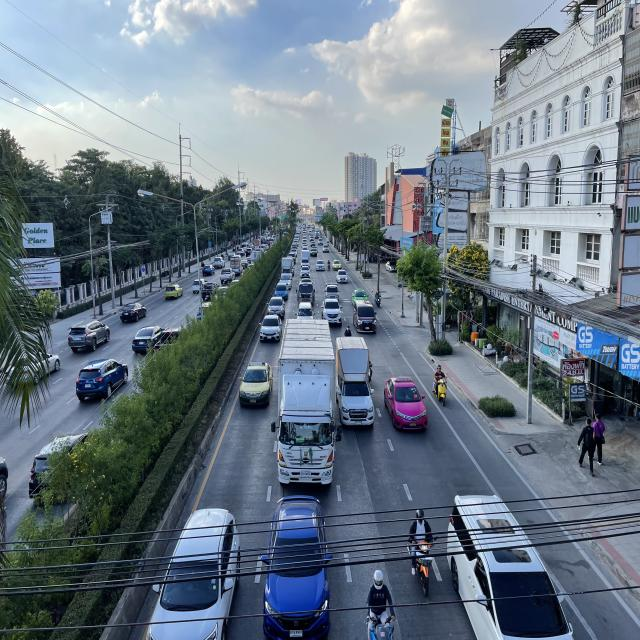bike: (406, 504, 437, 598), (362, 569, 396, 640), (432, 363, 448, 407), (374, 289, 382, 307)
car: (446, 491, 582, 640), (142, 507, 243, 640), (262, 494, 332, 640), (383, 374, 430, 434), (238, 360, 273, 408), (353, 300, 377, 335), (258, 314, 282, 343), (321, 298, 343, 327), (266, 296, 286, 319), (294, 301, 316, 319)
truck: (271, 318, 342, 488), (334, 335, 376, 432), (296, 278, 315, 306)
